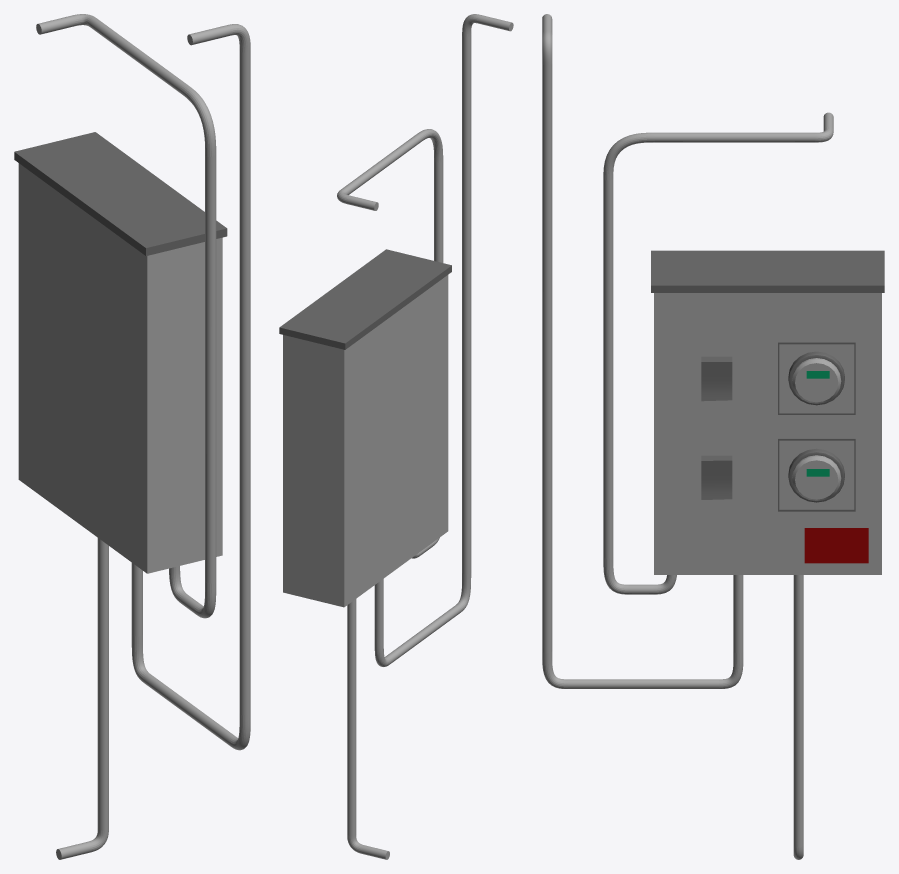
File: _oitier.fbx
3 renders of one model, left to right at view 1: azimuth 30°, elevation 25°; view 2: azimuth 150°, elevation 25°; view 3: azimuth 270°, elevation 25°, orthographic. The views are drawn at different scales.
Parts seen in each view (by area): view 1: curve9; view 2: curve9; view 3: curve9.
Boxes of the visible parts, bbox=[...] form: curve9: bbox=[14, 14, 250, 859]; curve9: bbox=[279, 14, 513, 859]; curve9: bbox=[542, 14, 884, 859].
Size of the model in its own units: 0.237 by 1.94 by 0.7282.
